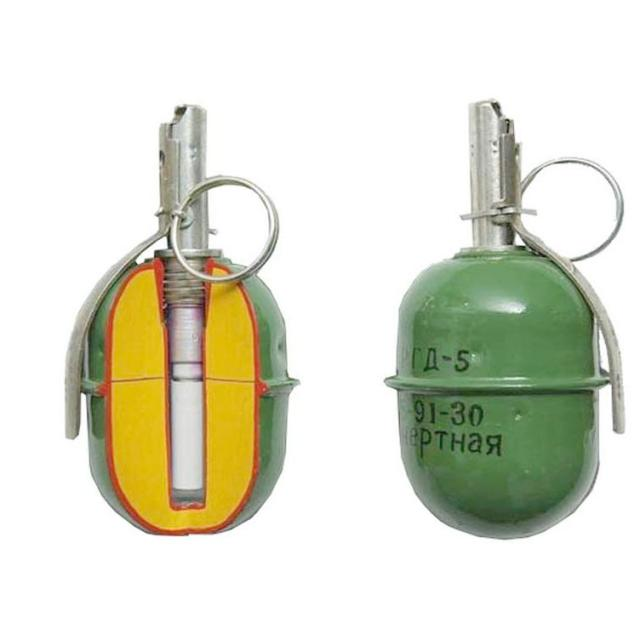grenade: (384, 102, 627, 543), (65, 108, 304, 538)
